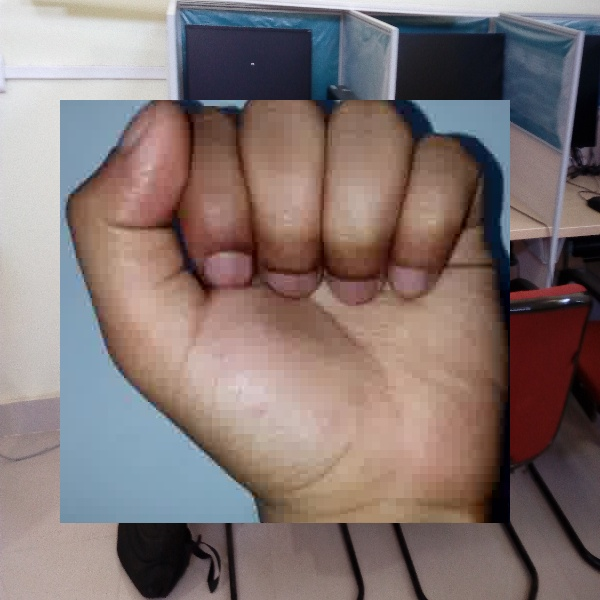A: (60, 100, 510, 523)
